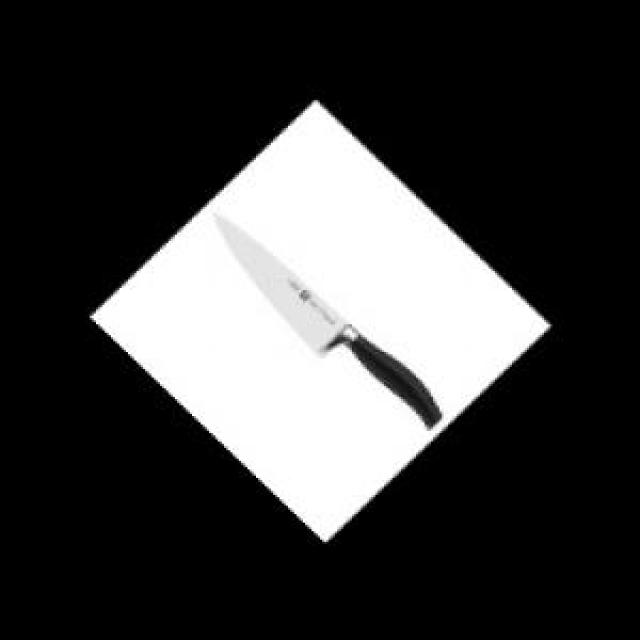knife: (209, 209, 440, 426)
